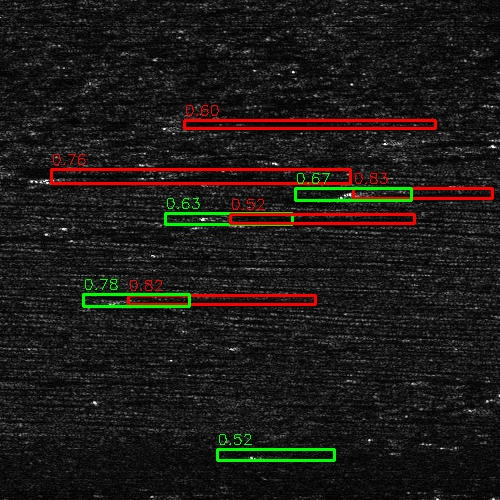rock: (404, 136, 467, 145), (155, 122, 196, 131), (474, 406, 500, 411), (491, 490, 500, 499)
shadow: (176, 122, 387, 131), (436, 136, 500, 145), (0, 135, 54, 142)
